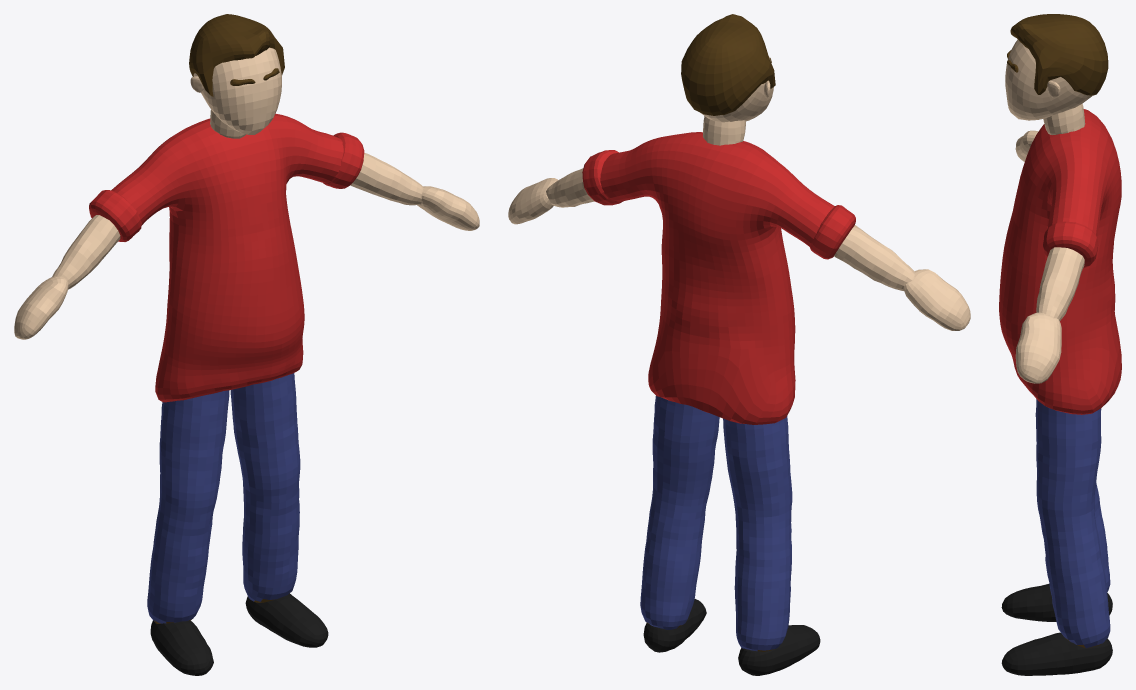
Rendered from DinerDude_Textured.fbx.
3 views of the same model, side by side, from view 1: azimuth 30°, elevation 25°; view 2: azimuth 150°, elevation 25°; view 3: azimuth 270°, elevation 25° (orthographic).
Visible parts, largest first — view 1: polySurface6; view 2: polySurface6; view 3: polySurface6.
Boxes of the visible parts, x1=… form: polySurface6: x1=14, y1=14, x2=479, y2=675; polySurface6: x1=508, y1=14, x2=970, y2=675; polySurface6: x1=999, y1=14, x2=1121, y2=675.
Size of the model in its own units: 90.33 by 117 by 20.83.
